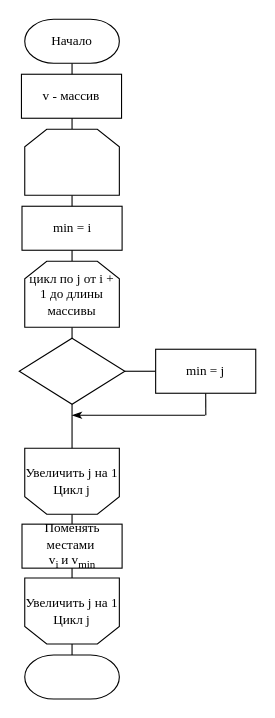
Image size: 275x718. Some labels were removed from this diagram. The box of each missing label's shape, as (x1, y1, x2, y2) in pixels:
v j < v min: (18, 337, 125, 404)
Конец: (24, 654, 119, 699)
цикл по i от 0 до длины массивы: (24, 128, 119, 195)
